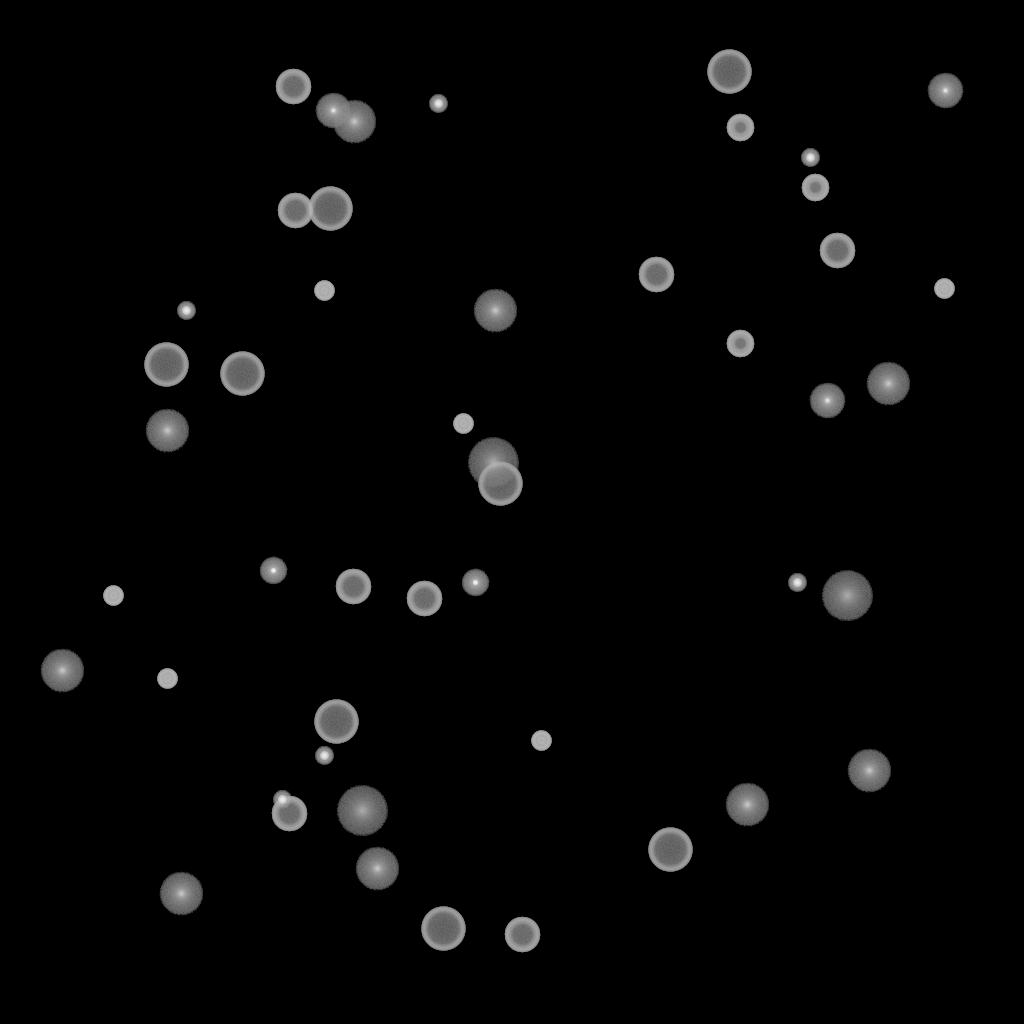depth:-10: (259, 557, 287, 585), (461, 569, 489, 597)
depth:-20: (273, 791, 291, 809), (177, 302, 195, 320), (315, 747, 333, 765), (788, 574, 806, 592), (801, 149, 819, 167), (429, 95, 447, 113)
depth:-40: (157, 669, 177, 689), (453, 414, 473, 434), (934, 279, 954, 299), (531, 731, 551, 751), (103, 586, 123, 606), (314, 281, 334, 301)
depth:-50: (801, 174, 829, 202), (726, 330, 754, 358), (726, 114, 754, 142)
depth:-60: (406, 581, 442, 617), (277, 193, 313, 229), (819, 233, 855, 269), (638, 257, 674, 293), (275, 69, 311, 105), (504, 917, 540, 953), (271, 796, 307, 832), (335, 569, 371, 605)
depth:-70: (314, 700, 358, 744), (421, 907, 465, 951), (144, 343, 188, 387), (648, 828, 692, 872), (478, 462, 522, 506), (707, 50, 751, 94), (220, 352, 264, 396), (308, 187, 352, 231)
depth:0: (809, 383, 845, 419), (315, 93, 351, 129), (927, 73, 963, 109)
depth:10: (725, 783, 769, 827), (866, 362, 910, 406), (159, 872, 203, 916), (332, 100, 376, 144), (847, 749, 891, 793), (145, 409, 189, 453), (355, 847, 399, 891), (473, 289, 517, 333), (40, 649, 84, 693)
depth:20: (821, 571, 873, 621), (336, 786, 388, 836), (467, 438, 519, 488)
